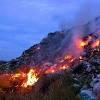fire: (7, 66, 40, 88)
